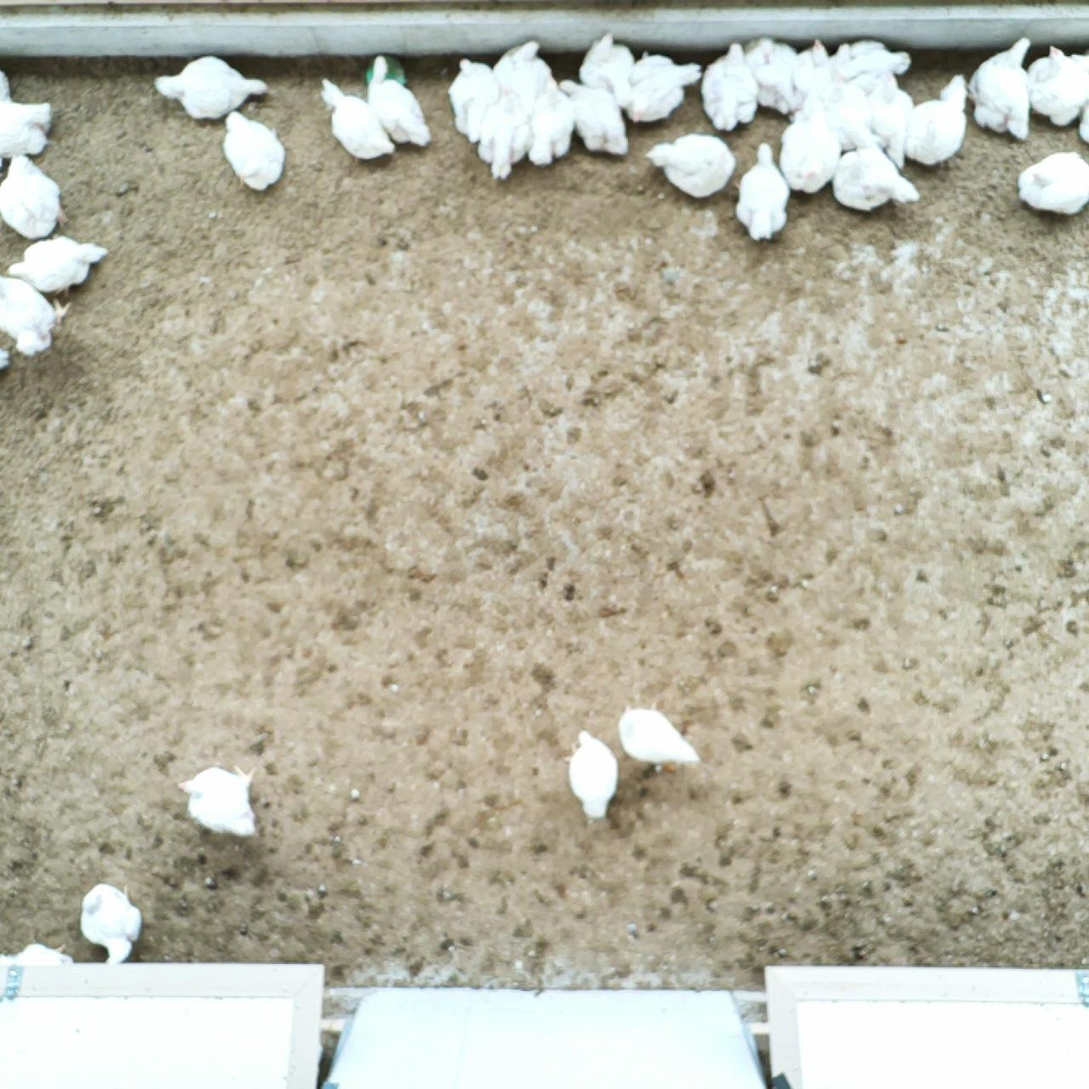chicken: (150, 51, 270, 123), (967, 35, 1040, 144), (177, 758, 264, 845), (831, 138, 921, 218), (1, 234, 110, 300), (318, 73, 397, 164), (362, 52, 433, 152), (644, 128, 736, 201), (614, 700, 705, 773), (731, 139, 793, 245), (905, 70, 970, 170), (557, 75, 634, 159), (0, 153, 70, 242), (625, 49, 704, 126), (76, 878, 145, 966), (0, 273, 73, 356), (220, 108, 289, 195), (560, 726, 621, 823), (700, 40, 761, 135), (778, 108, 843, 193), (444, 54, 501, 148), (1029, 40, 1086, 132), (477, 85, 531, 182), (1014, 148, 1089, 216), (525, 74, 577, 171), (0, 66, 53, 157), (745, 34, 799, 117), (577, 27, 633, 107), (827, 34, 913, 83), (861, 72, 914, 143), (834, 80, 886, 149), (492, 38, 554, 93), (792, 36, 832, 90), (799, 87, 838, 135)
